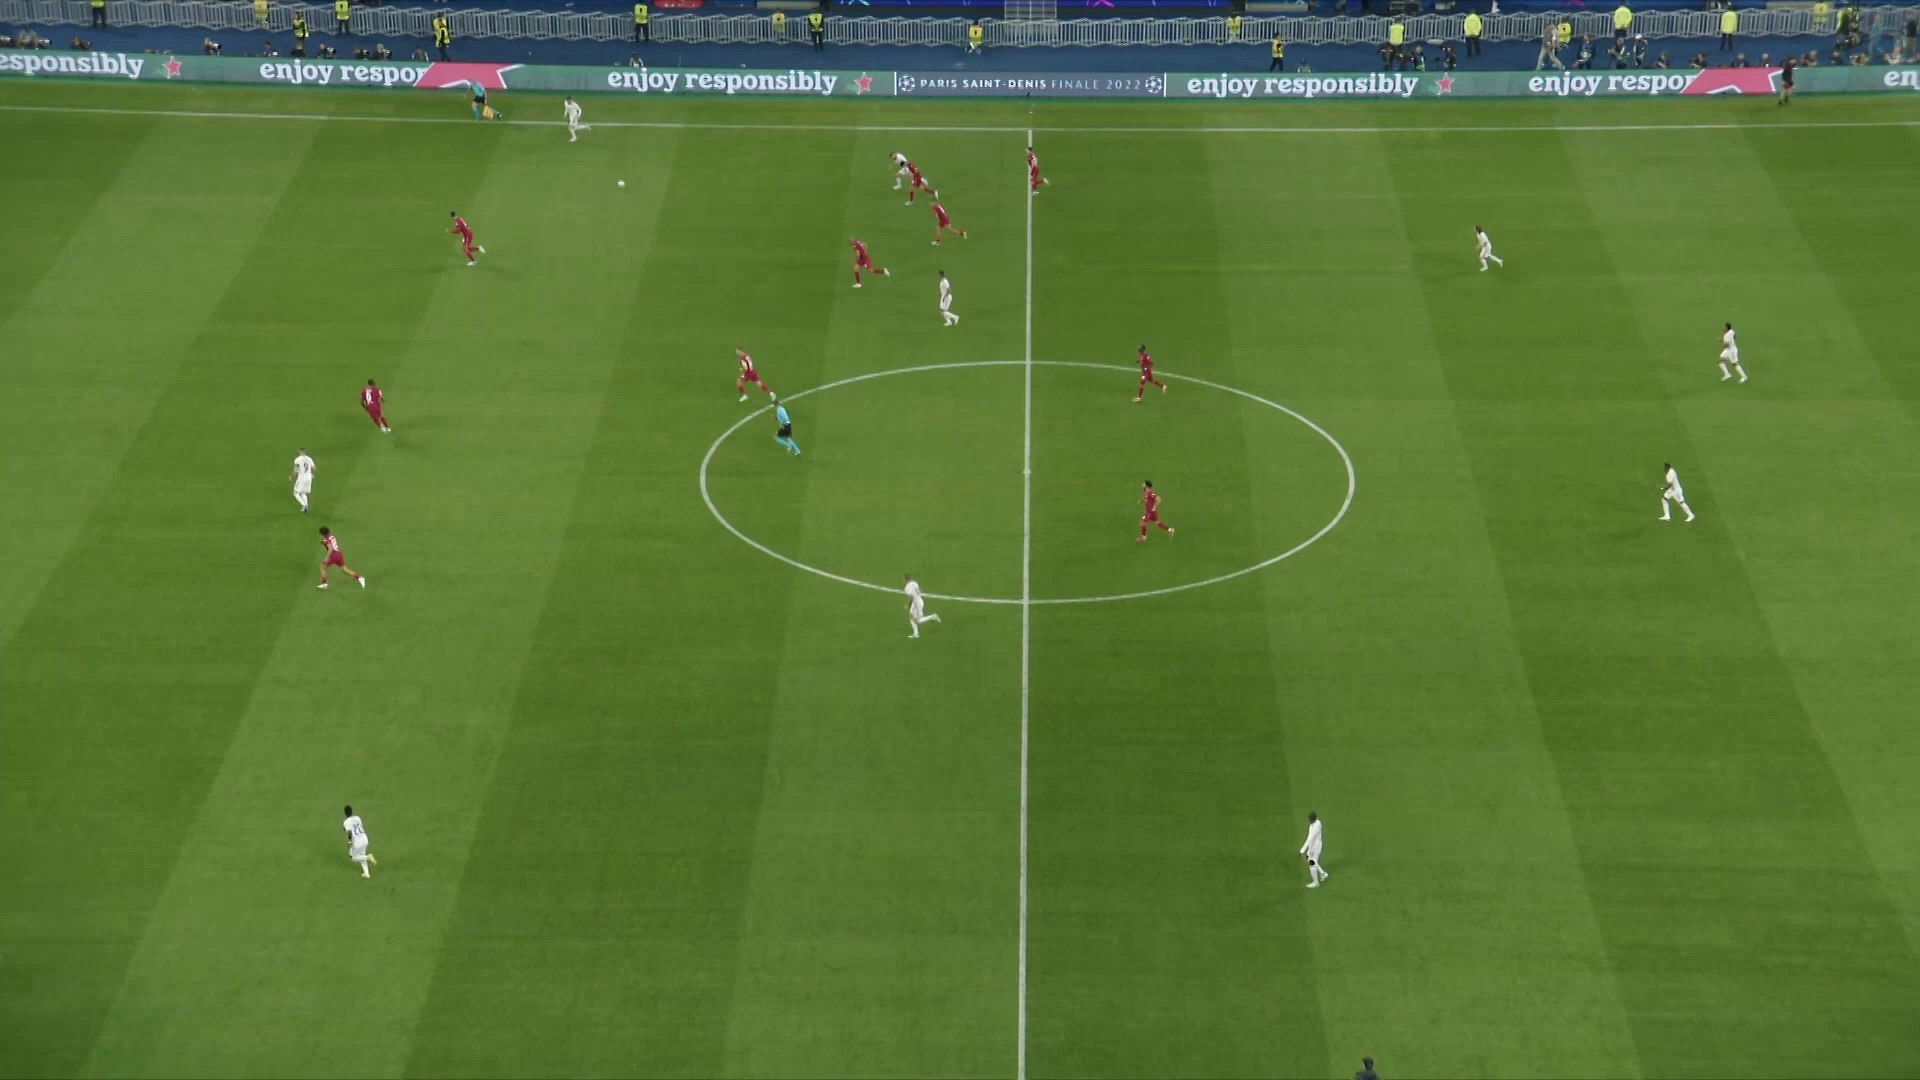ball: (612, 175, 631, 188)
player 1: (550, 88, 597, 147)
player 10: (1655, 450, 1705, 532)
player 11: (1297, 793, 1343, 903)
player 13: (440, 202, 489, 276)
player 14: (304, 521, 366, 595)
player 15: (840, 241, 892, 293)
player 16: (351, 364, 399, 444)
player 17: (722, 336, 769, 405)
player 18: (907, 164, 929, 209)
player 19: (925, 202, 968, 248)
player 2: (886, 138, 912, 192)
player 20: (1017, 142, 1060, 200)
player 21: (1129, 332, 1174, 410)
player 22: (1129, 474, 1179, 541)
player 3: (323, 791, 388, 881)
player 4: (297, 444, 321, 513)
player 5: (896, 575, 931, 638)
player 7: (929, 265, 965, 332)
player 8: (1463, 215, 1523, 284)
player 9: (1705, 299, 1748, 396)
reffree: (767, 394, 810, 463)
